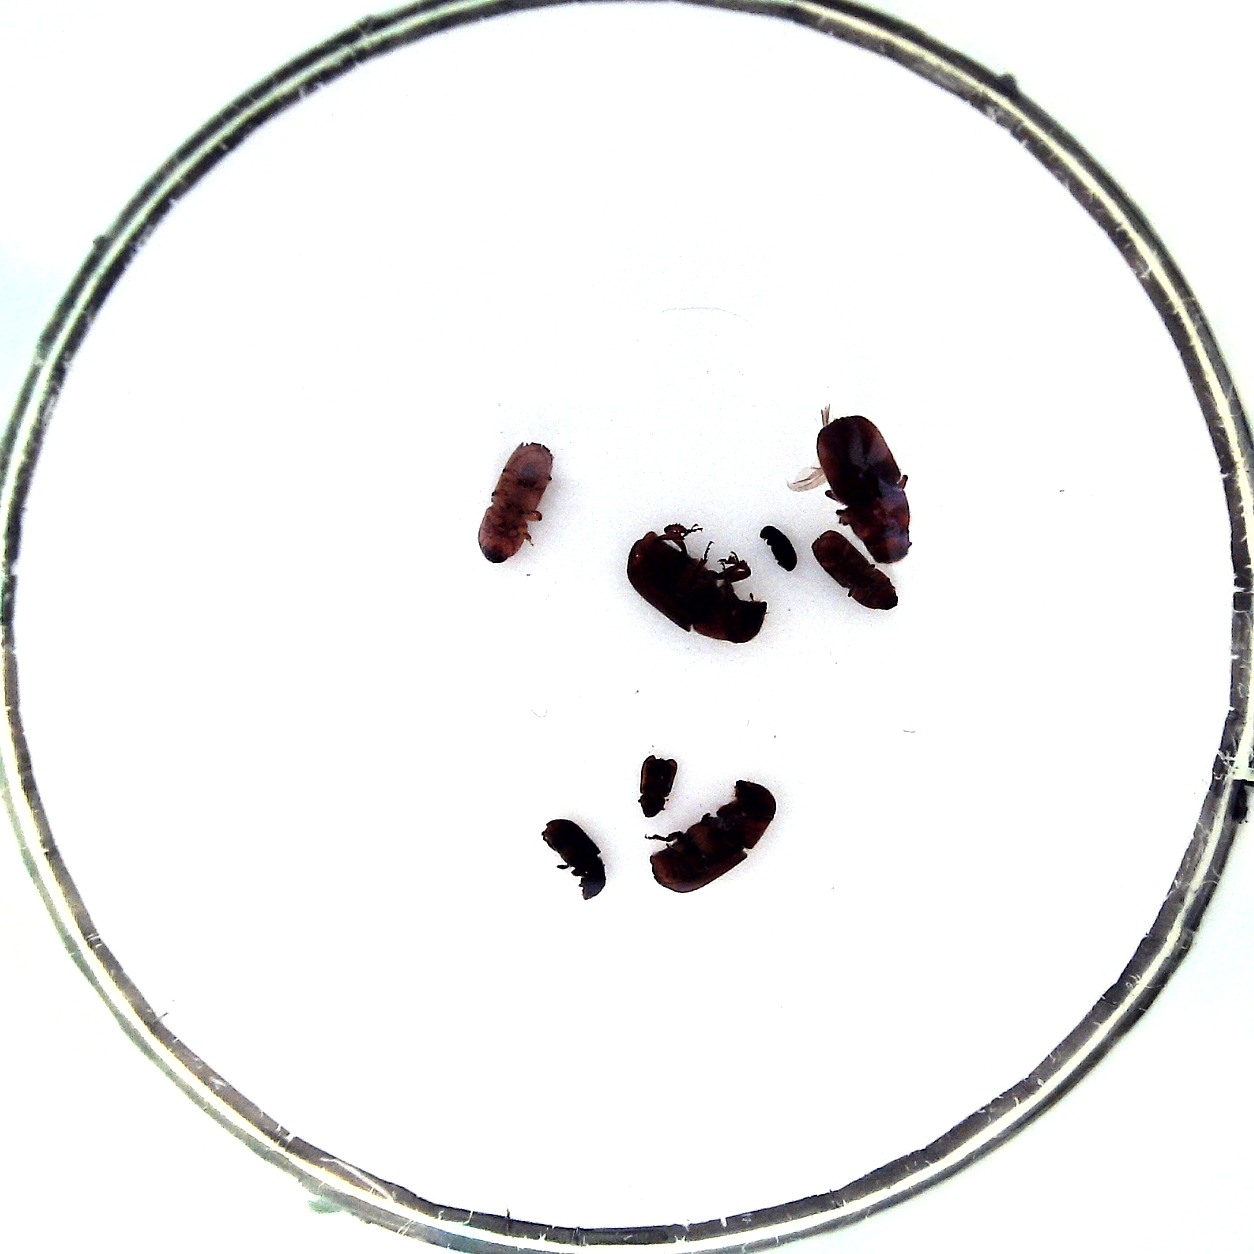Boerner: (477, 442, 554, 564)
Leconte: (626, 531, 767, 644), (649, 779, 775, 895), (818, 415, 912, 564)
acuminatus: (758, 524, 798, 573)
armandi: (544, 819, 607, 899)
coleoptera: (637, 754, 678, 818)
linnaeus: (812, 529, 899, 611)
